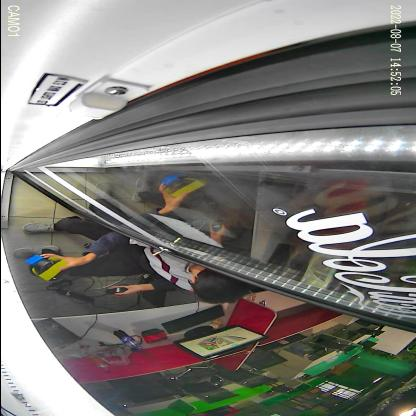blue: (25, 254, 55, 272)
yellow: (32, 258, 72, 281)
